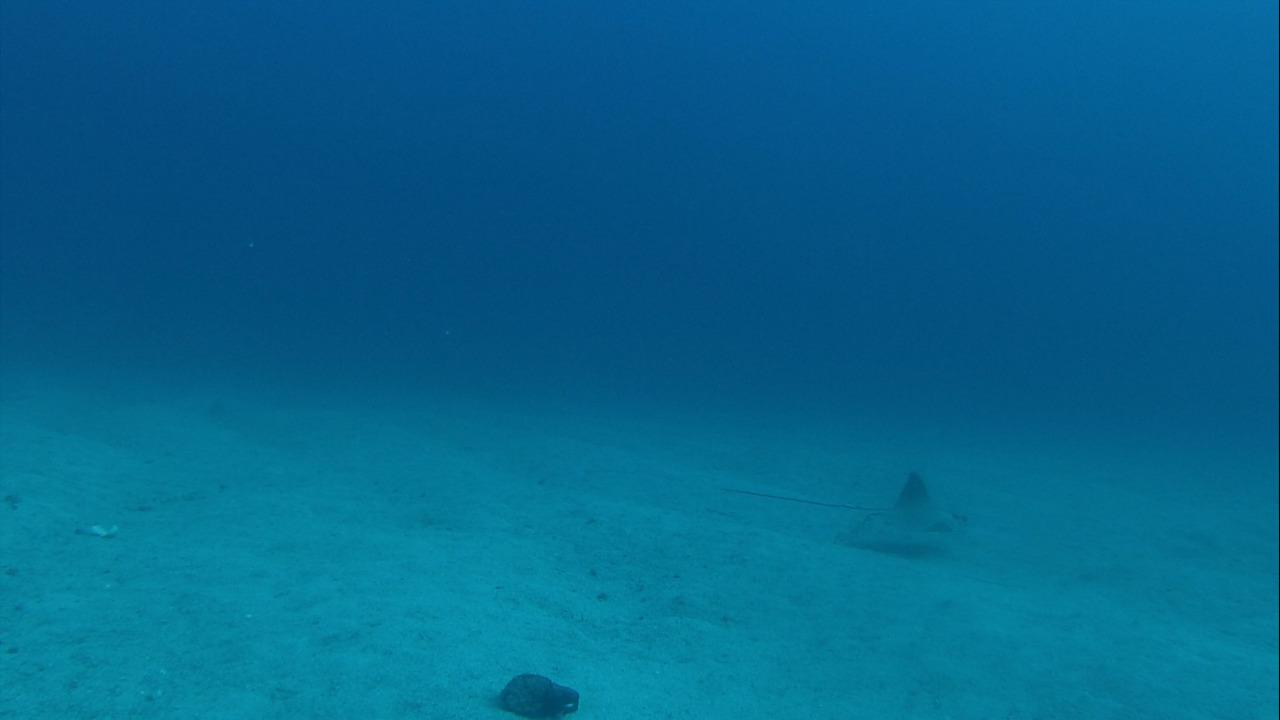myliobatis: (704, 465, 972, 555)
